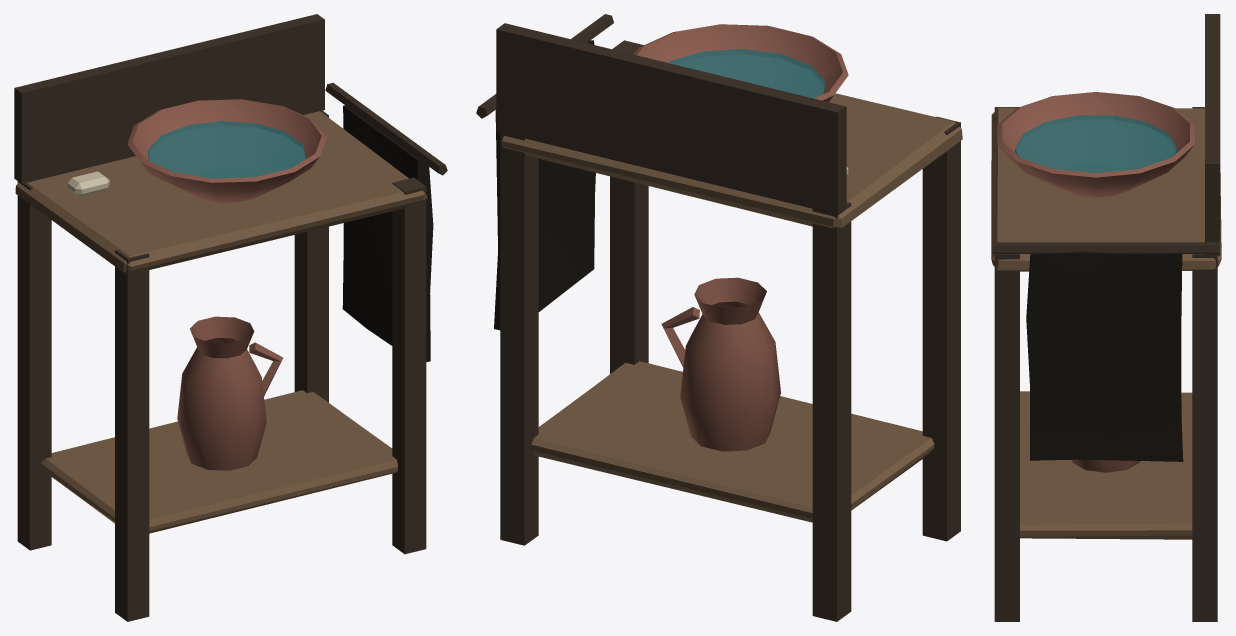
Rendered from washstand.glb.
3 views of the same model, side by side, from view 1: azimuth 30°, elevation 25°; view 2: azimuth 150°, elevation 25°; view 3: azimuth 270°, elevation 25° (orthographic). The views are drawn at different scales.
Parts seen in each view (by area): view 1: washstand; view 2: washstand; view 3: washstand.
Part boxes in pixels (box(x1,y1,x2,y2)): washstand: box(14, 14, 447, 621); washstand: box(476, 14, 962, 621); washstand: box(991, 14, 1221, 621).
Size of what is drawn, in the model's own units: 0.752 by 1 by 0.4549.
